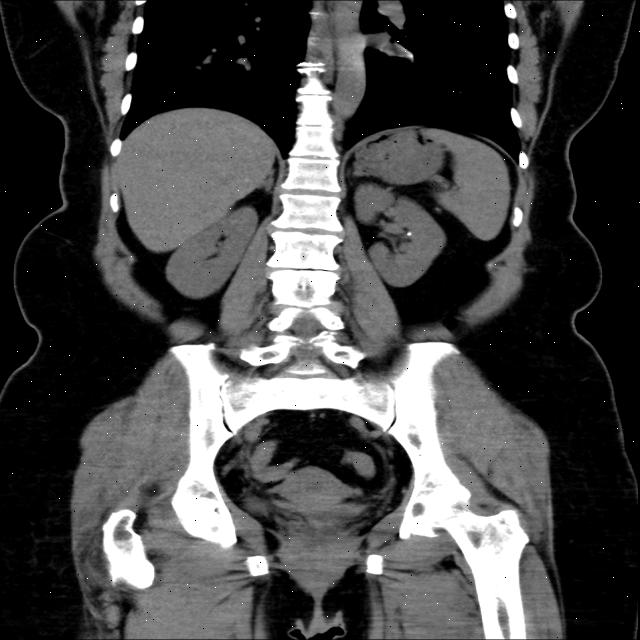kidneystone: (406, 231, 412, 236)
